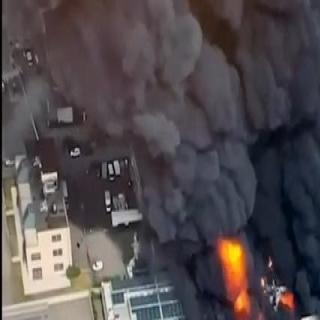smoke: (34, 3, 320, 213)
